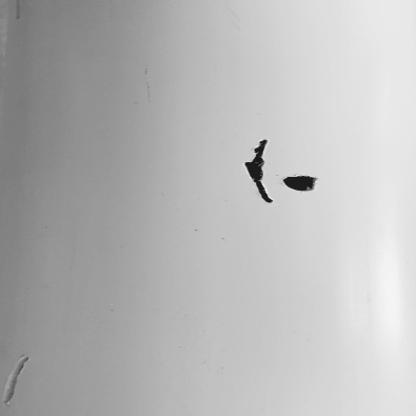kongdong: (244, 138, 273, 205), (282, 173, 318, 191)
sunshang: (1, 358, 27, 406)
